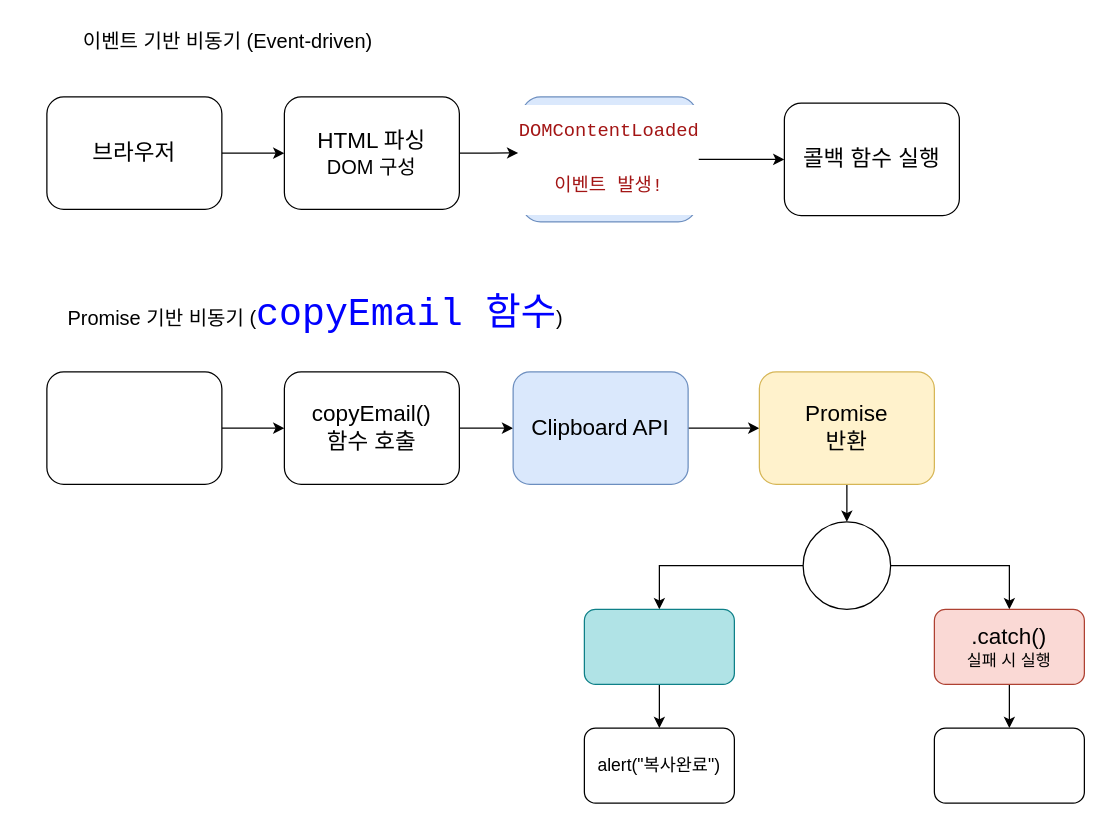
This 1106x825 diagram has some shape labels left out. Here are the shapes that lost their labels. From the top down, the box of each, then its label:
(46, 371, 222, 484): 사용자 버튼 클릭
(802, 521, 891, 609): 결과?
(583, 608, 734, 684): .then() 성공시 실행
(933, 727, 1084, 803): alert("복사실패")
